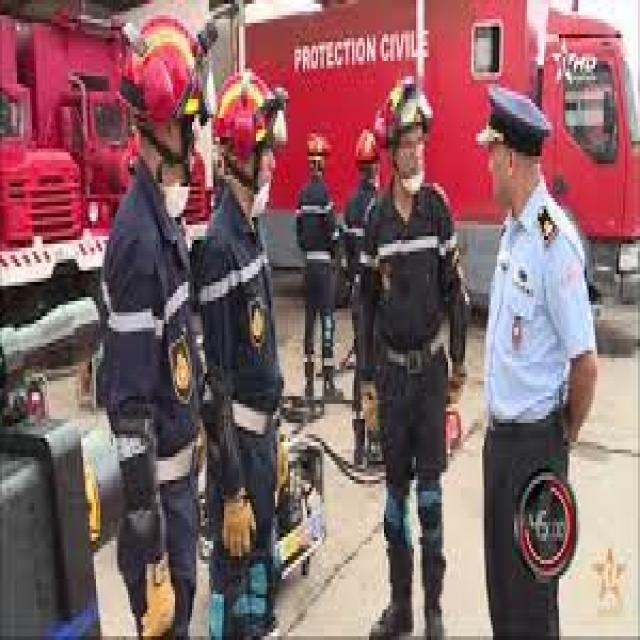pompier: (253, 0, 636, 293), (2, 19, 82, 235)
